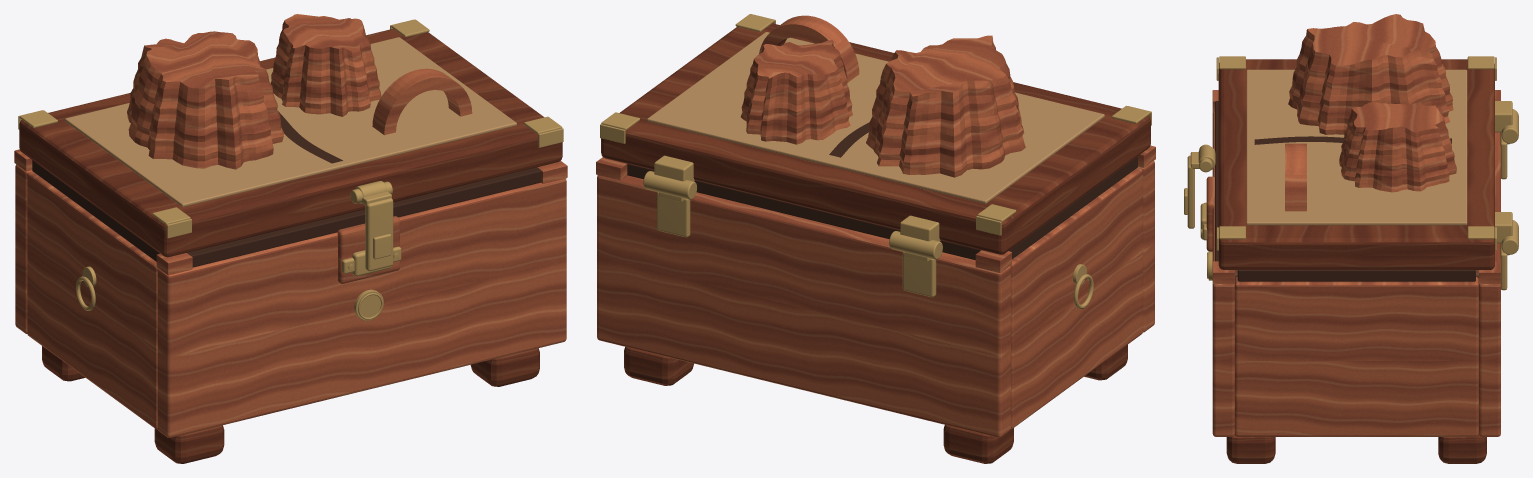
Rendered from jordan.glb.
The picture shows the model from 3 angles, left to right: view 1: azimuth 30°, elevation 25°; view 2: azimuth 150°, elevation 25°; view 3: azimuth 270°, elevation 25°; orthographic projection. The views are drawn at different scales.
Parts seen in each view (by area): view 1: Sandstone / front, Lid / polished slab, Sandstone / side, Terrain / sandy inset, Terrain / west fluted massif, Terrain / east fluted massif, Seam / long, Terrain / open sandstone arch, Sandstone / rear, Sandstone / foot, Sandstone / foot.002, Latch / lifting hasp (+6 smaller); view 2: Sandstone / rear, Lid / polished slab, Sandstone / side, Terrain / west fluted massif, Terrain / sandy inset, Terrain / east fluted massif, Seam / long.001, Terrain / open sandstone arch, Sandstone / front, Sandstone / foot.001, Sandstone / foot.003, Seam / side (+9 smaller); view 3: Sandstone / side.001, Lid / polished slab, Terrain / sandy inset, Terrain / west fluted massif, Terrain / east fluted massif, Sandstone / rear, Sandstone / front, Seam / side.001, Terrain / open sandstone arch, Sandstone / foot.002, Sandstone / foot.003, Seam / long (+13 smaller).
Part boxes in pixels (box(x1,y1,x2,y2)): Sandstone / front: box(157, 178, 566, 437); Lid / polished slab: box(19, 29, 562, 257); Sandstone / side: box(27, 171, 158, 429); Terrain / sandy inset: box(65, 37, 516, 207); Terrain / west fluted massif: box(127, 31, 283, 169); Terrain / east fluted massif: box(271, 14, 381, 116); Seam / long: box(187, 167, 541, 267); Terrain / open sandstone arch: box(372, 68, 472, 135); Sandstone / rear: box(15, 164, 32, 333); Sandstone / foot: box(154, 425, 224, 463); Sandstone / foot.002: box(470, 348, 539, 386); Latch / lifting hasp: box(365, 198, 393, 271); Sandstone / rear: box(597, 175, 1010, 437); Lid / polished slab: box(601, 23, 1150, 254); Sandstone / side: box(1010, 167, 1142, 428); Terrain / west fluted massif: box(866, 35, 1025, 177); Terrain / sandy inset: box(647, 32, 1104, 203); Terrain / east fluted massif: box(740, 40, 852, 144); Seam / long.001: box(627, 164, 981, 260); Terrain / open sandstone arch: box(759, 15, 859, 82); Sandstone / front: box(1137, 161, 1154, 332); Sandstone / foot.001: box(943, 425, 1013, 463); Sandstone / foot.003: box(624, 347, 693, 385); Seam / side: box(1009, 156, 1137, 259); Sandstone / side.001: box(1235, 277, 1478, 436); Lid / polished slab: box(1218, 59, 1494, 269); Terrain / sandy inset: box(1246, 69, 1467, 225); Terrain / west fluted massif: box(1288, 14, 1453, 134); Terrain / east fluted massif: box(1339, 101, 1456, 192); Sandstone / rear: box(1479, 132, 1500, 436); Sandstone / front: box(1212, 112, 1234, 436); Seam / side.001: box(1237, 270, 1475, 281); Terrain / open sandstone arch: box(1285, 143, 1306, 211); Sandstone / foot.002: box(1226, 435, 1275, 463); Sandstone / foot.003: box(1438, 435, 1486, 463); Seam / long: box(1215, 101, 1218, 261).
Size of the model in its own units: 3.79 by 2.98 by 2.88.
6 materials, 2 textured.
